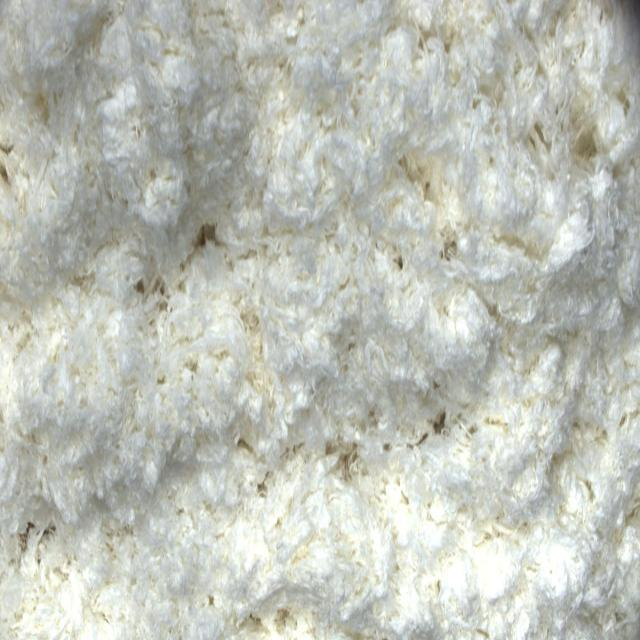dust: (196, 209, 222, 255)
